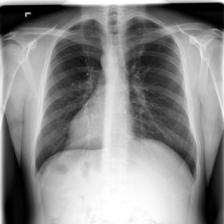normal: (33, 15, 201, 184)
